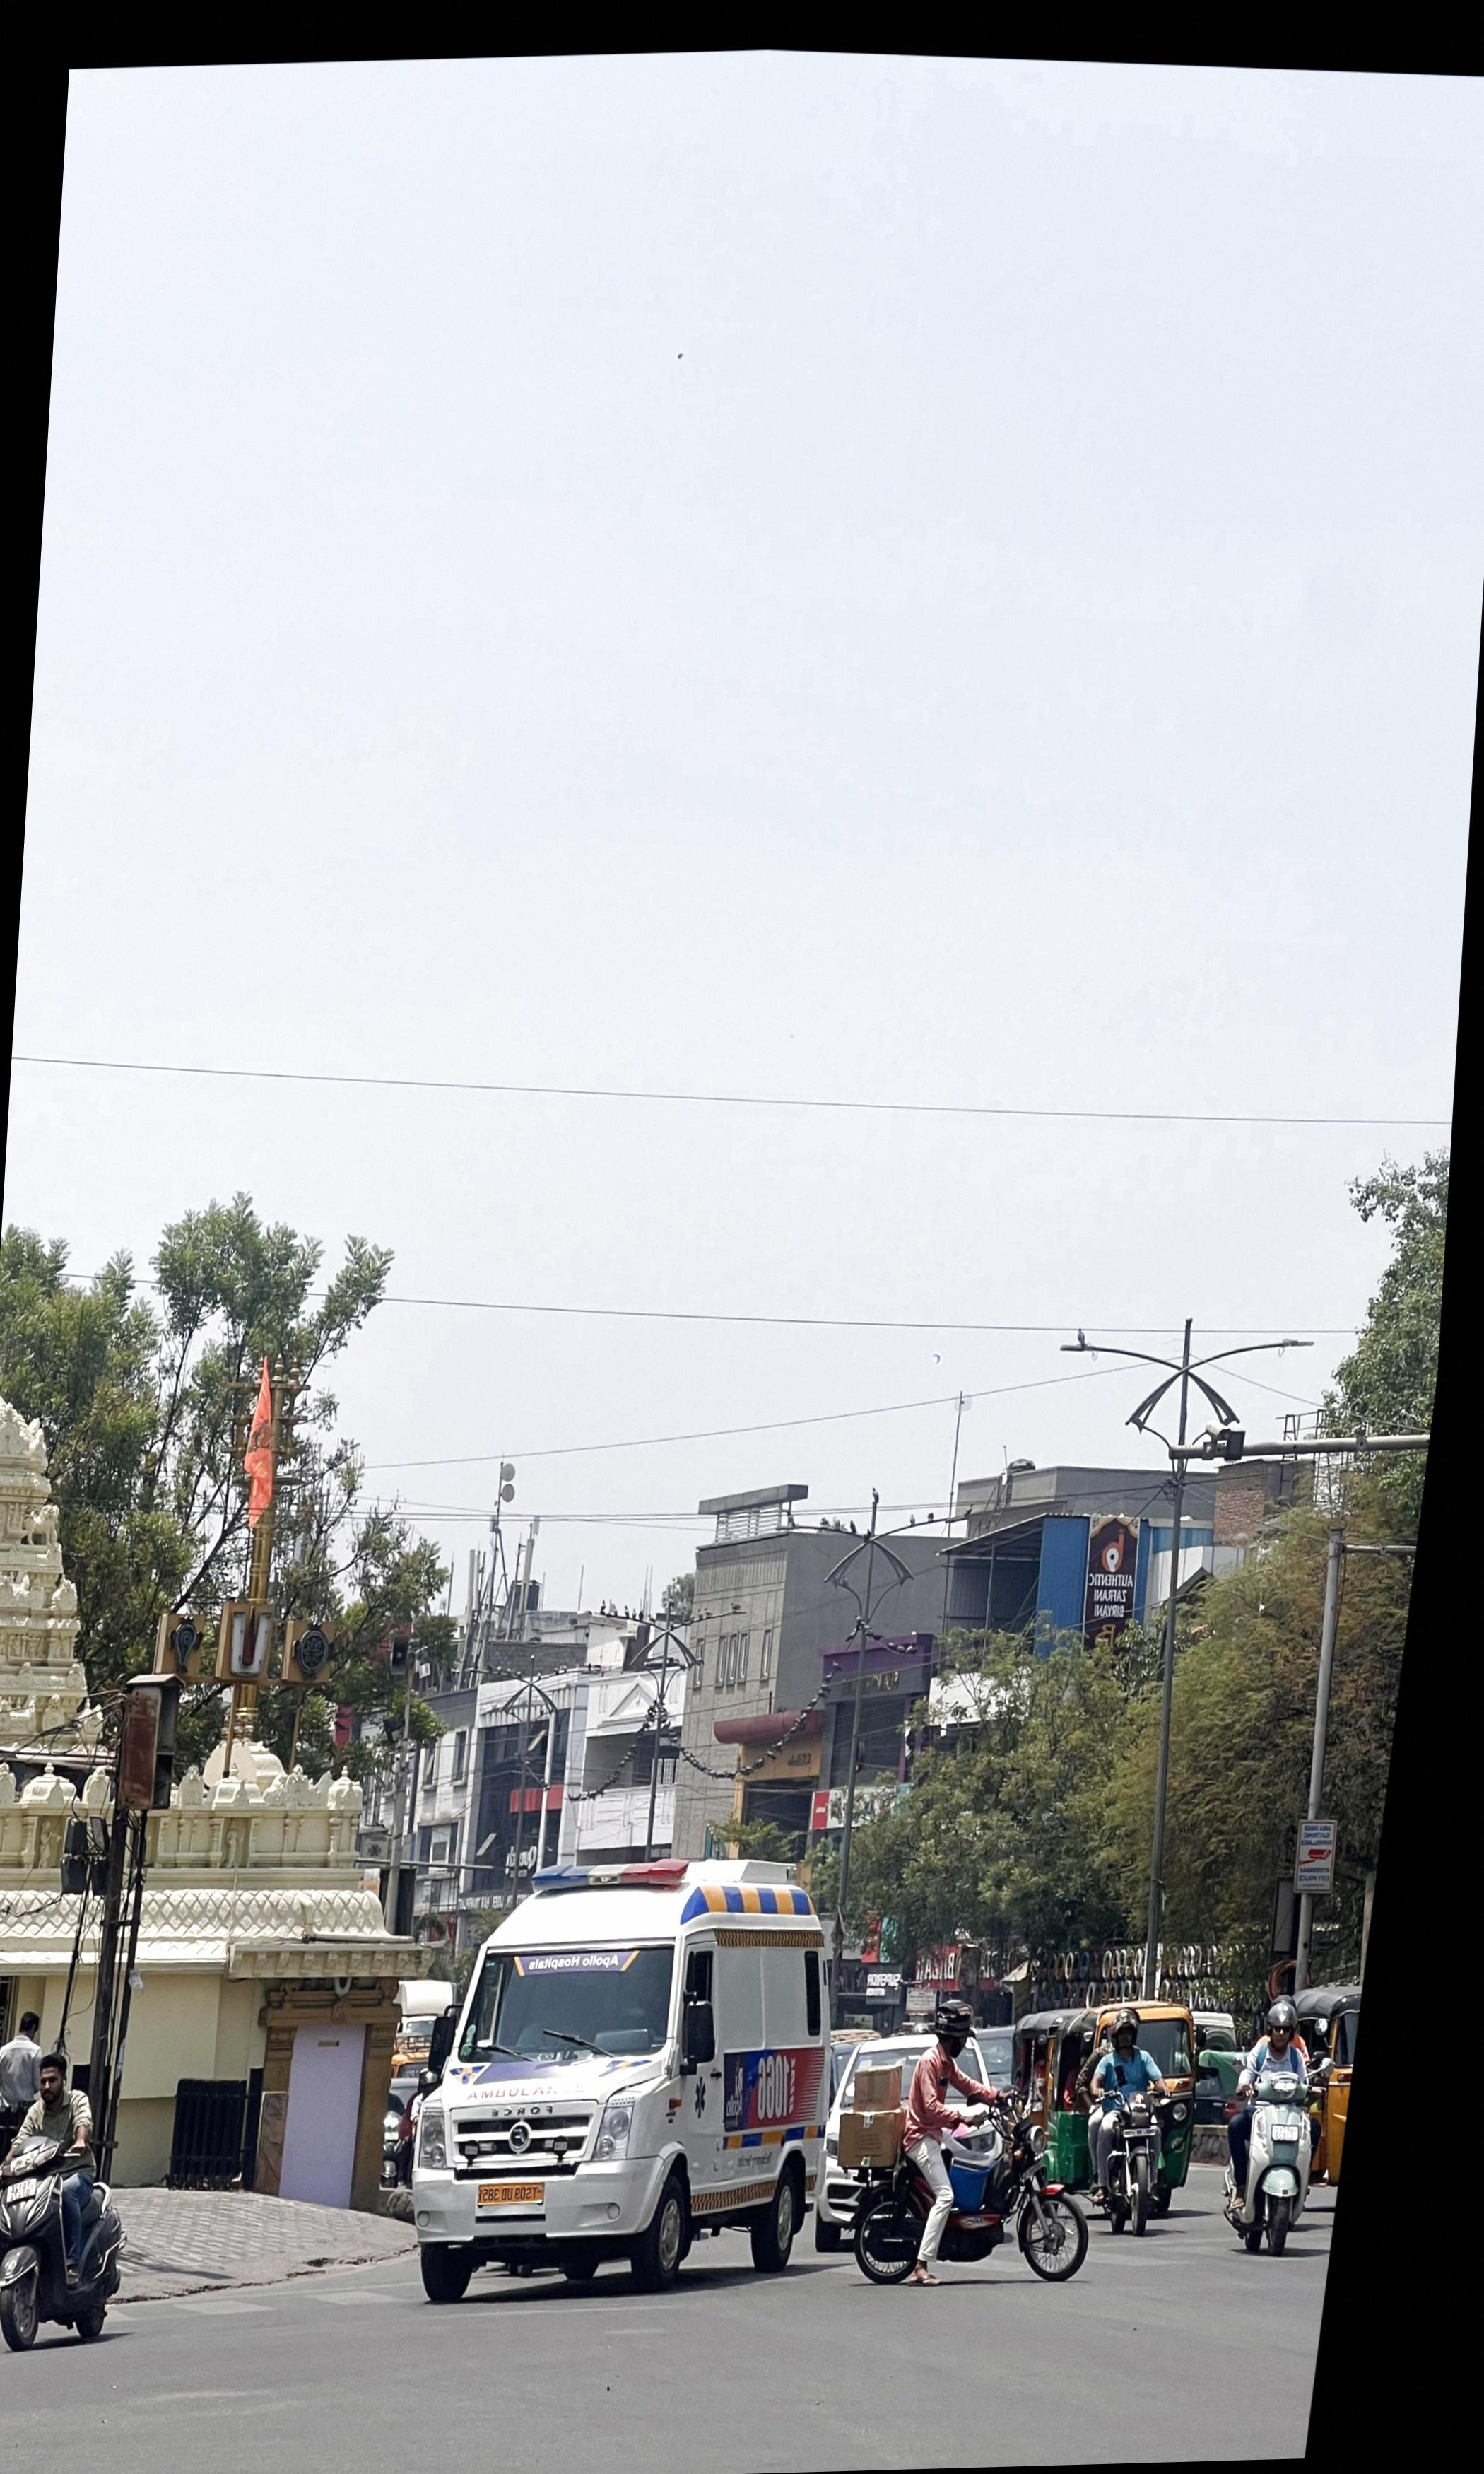ambulance: (415, 1859, 832, 2301)
